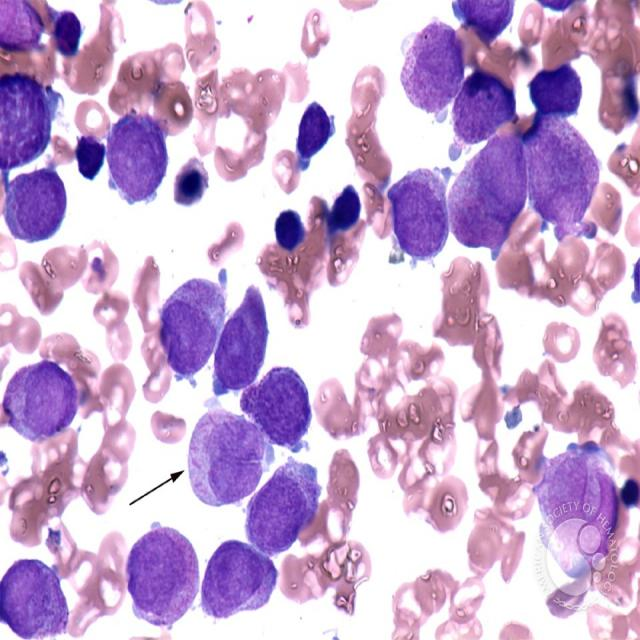ALL Positive Cell: (130, 522, 200, 621), (188, 418, 264, 508), (398, 27, 471, 116), (218, 270, 268, 393), (390, 172, 456, 264), (103, 113, 165, 204), (2, 557, 62, 640), (8, 362, 72, 439), (247, 371, 312, 442), (205, 544, 272, 605), (6, 173, 61, 240), (519, 68, 585, 112), (294, 98, 335, 163), (327, 177, 365, 238), (170, 152, 206, 214), (274, 202, 316, 251), (79, 136, 107, 184), (60, 8, 81, 57)
